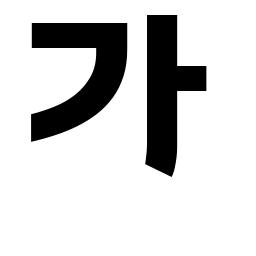Gaji: (136, 54, 195, 109)
